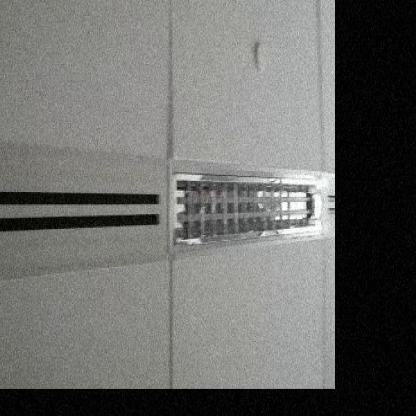light_off: (162, 142, 325, 260)
